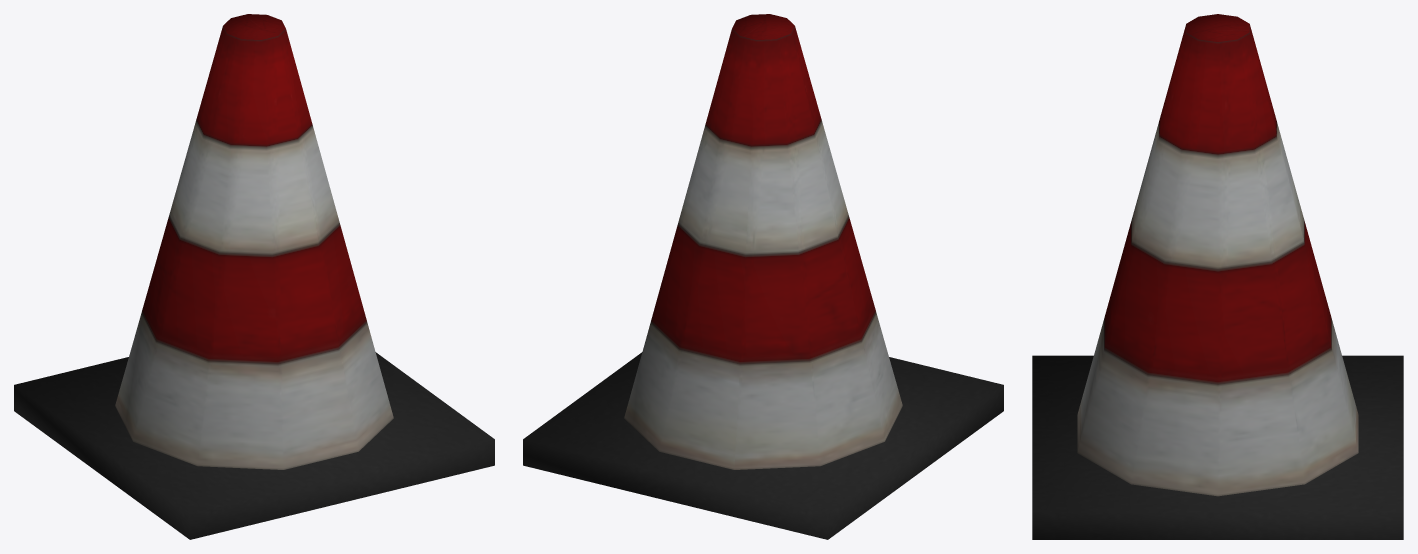
The model's file is duba_03.FBX.
The picture shows the model from 3 angles, left to right: view 1: azimuth 30°, elevation 25°; view 2: azimuth 150°, elevation 25°; view 3: azimuth 270°, elevation 25°; orthographic projection. The views are drawn at different scales.
Parts seen in each view (by area): view 1: duba_03; view 2: duba_03; view 3: duba_03.
Boxes of the visible parts, x1,y1,x2,y2 form: duba_03: (14, 14, 494, 539); duba_03: (523, 14, 1003, 539); duba_03: (1032, 14, 1403, 539).
Size of the model in its own units: 112 by 145 by 113.
